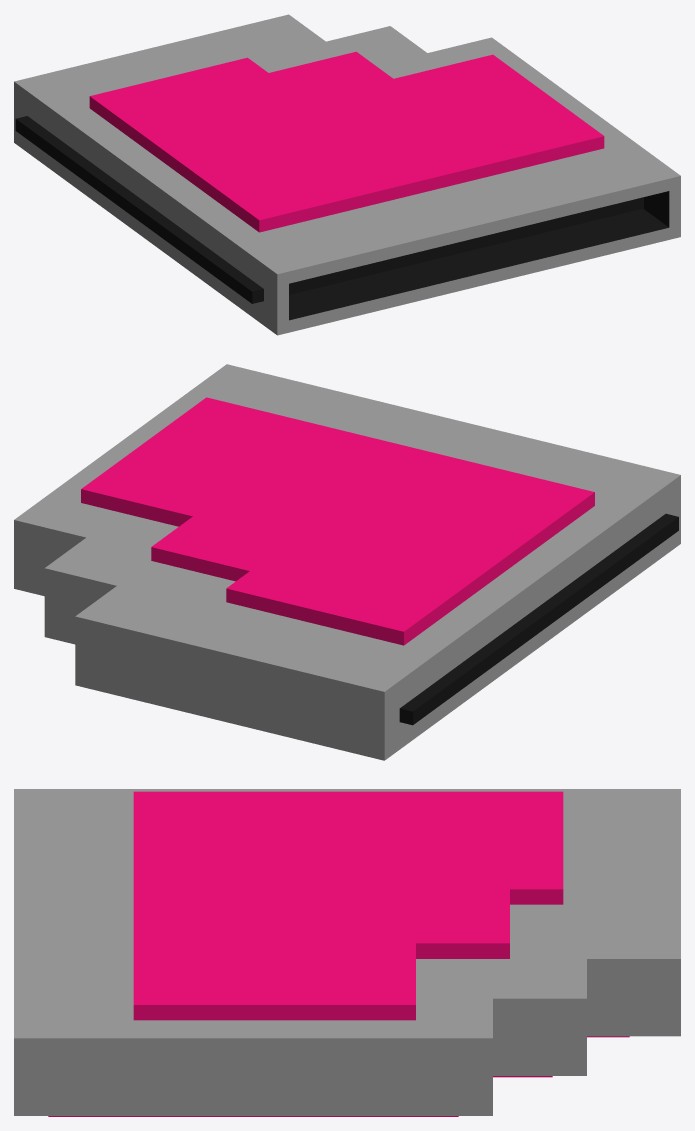
Rendered from Fetch Modus.fbx.
3 views of the same model, one above another, from view 1: azimuth 30°, elevation 25°; view 2: azimuth 150°, elevation 25°; view 3: azimuth 270°, elevation 25° (orthographic). The views are drawn at different scales.
Visible parts, largest first — view 1: Fetch Modus; view 2: Fetch Modus; view 3: Fetch Modus.
Boxes of the visible parts, left/top/right/bottom form: Fetch Modus: left=14, top=14, right=680, bottom=335; Fetch Modus: left=14, top=364, right=680, bottom=760; Fetch Modus: left=14, top=789, right=680, bottom=1116.
Size of the model in its own units: 355 by 70 by 390.
